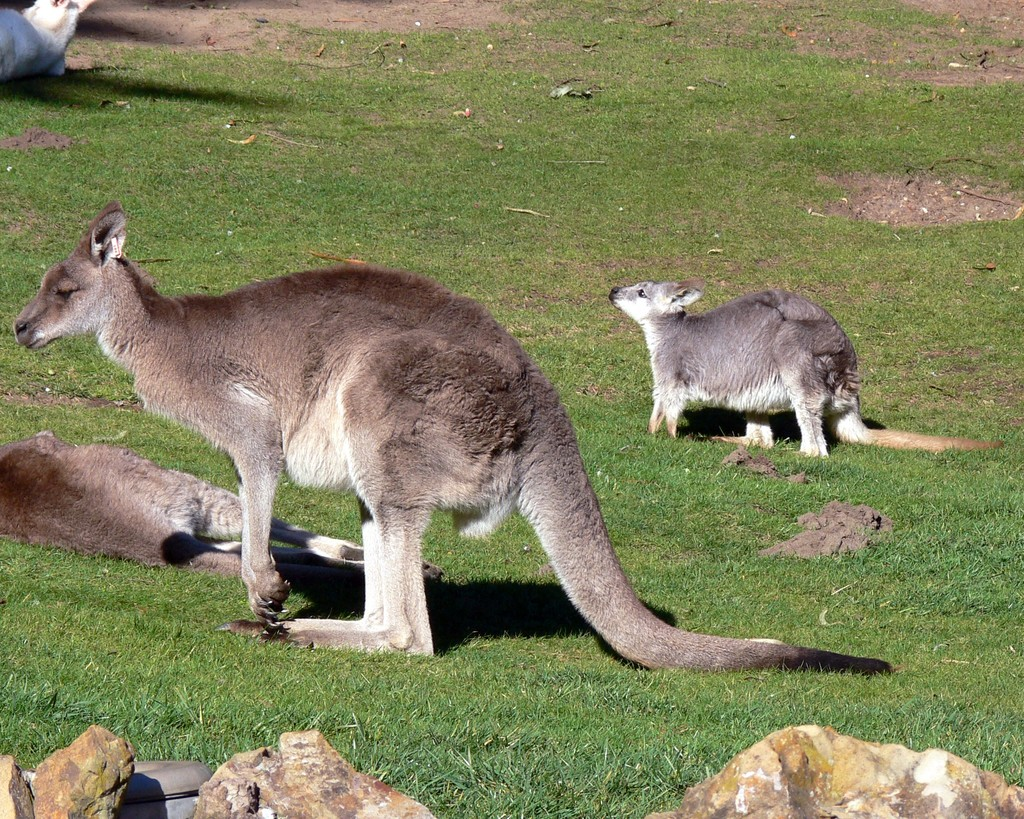kangaroo: (13, 200, 885, 686), (604, 277, 1006, 464)
